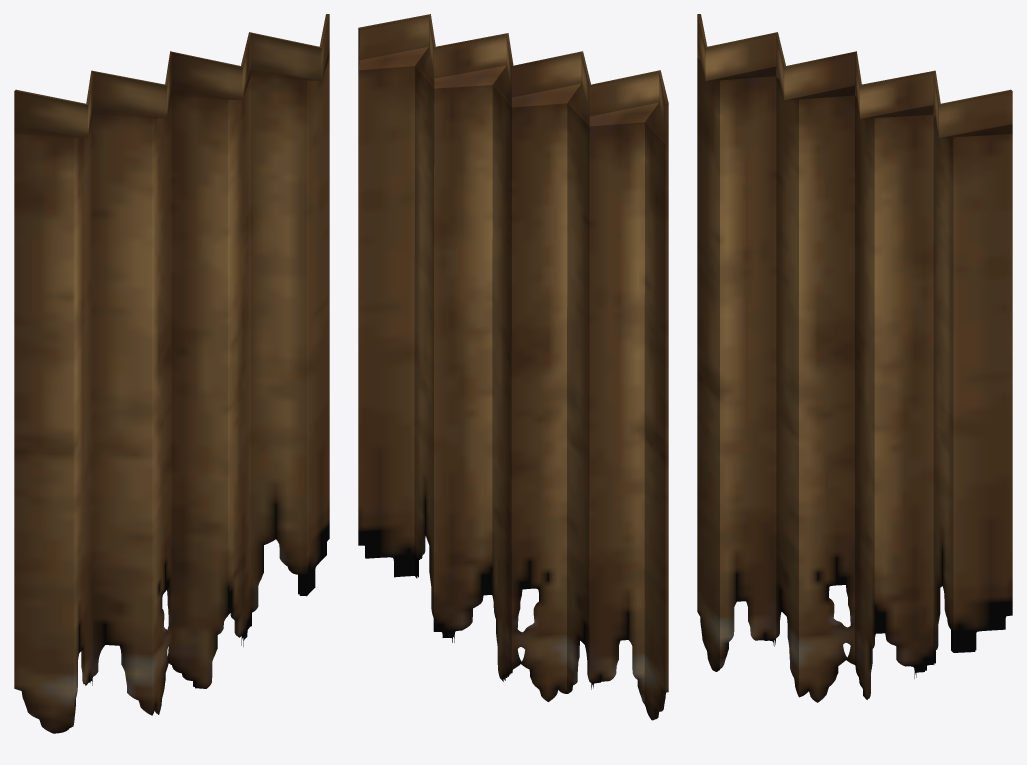
Rendered from Inside_Poly_Curtain_05.obj.
The picture shows the model from 3 angles, left to right: view 1: azimuth 30°, elevation 25°; view 2: azimuth 150°, elevation 25°; view 3: azimuth 330°, elevation 25°; orthographic projection.
Visible parts, largest first — view 1: Plane.001; view 2: Plane.001; view 3: Plane.001.
Part boxes in pixels (x1,y1,x2,y2): Plane.001: (14,14,329,733); Plane.001: (358,14,668,720); Plane.001: (697,14,1012,702).
Size of the model in its own units: 1 by 1.99 by 0.19.
Materials: 1 (1 with a texture image).
